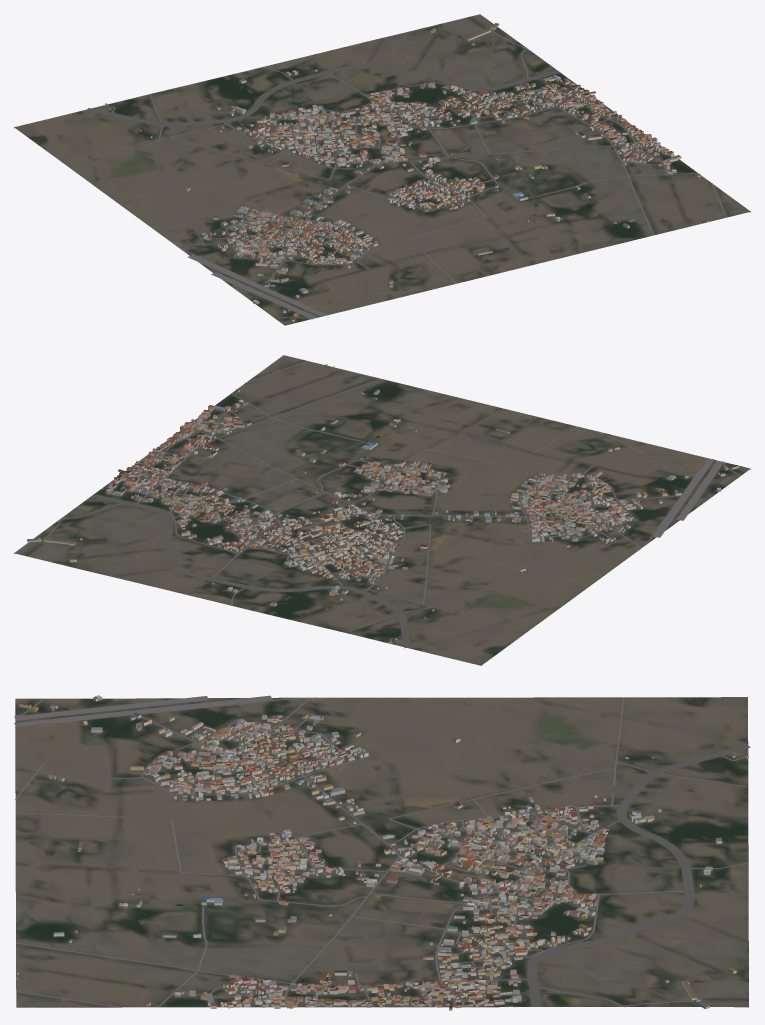
3 renders of one model, top to bottom at view 1: azimuth 30°, elevation 25°; view 2: azimuth 150°, elevation 25°; view 3: azimuth 270°, elevation 25°, orthographic. The views are drawn at different scales.
Parts seen in each view (by area): view 1: ground, buildings, roads; view 2: ground, buildings, roads; view 3: ground, buildings, roads.
Boxes of the visible parts, bbox=[...] form: ground: bbox=[14, 14, 750, 325]; buildings: bbox=[105, 23, 708, 321]; roads: bbox=[60, 31, 726, 319]; ground: bbox=[14, 355, 750, 665]; buildings: bbox=[27, 364, 739, 643]; roads: bbox=[43, 361, 740, 648]; ground: bbox=[15, 697, 748, 1007]; buildings: bbox=[16, 695, 748, 1010]; roads: bbox=[14, 695, 750, 1007].
Size of the model in its own units: 1422 by 14.8 by 1410.
